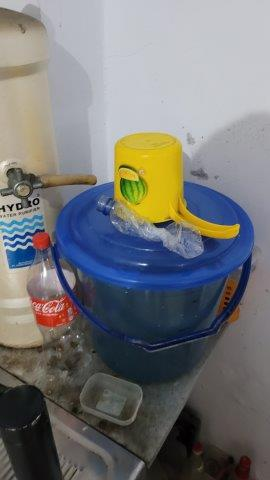botolplastik: (94, 195, 205, 259)
